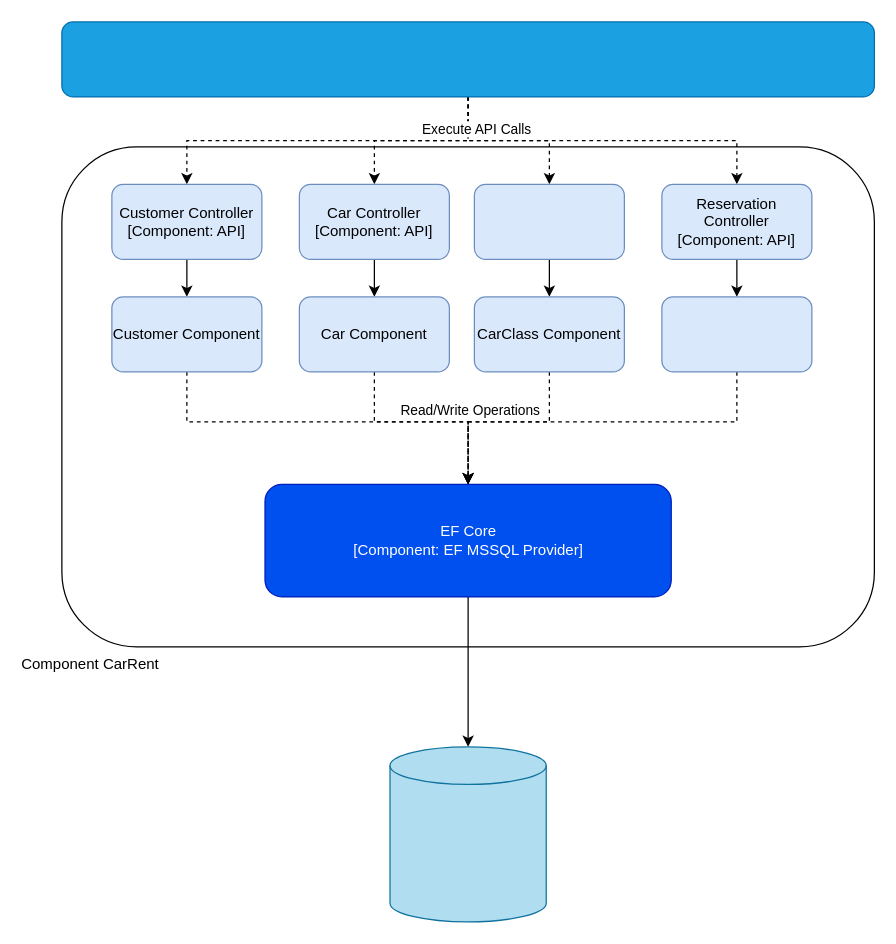
Some shapes in this 896 by 944 pixel diagram are drawn without their labels. The shapes that lost their labels are listed below. From the top down, each one's centre as x and y in pixels, then its label:
the point at 467,59: IIS Windows [Container: Webserver]
the point at 548,221: CarClass Controller [Component: API]
the point at 736,334: Reservation Component
the point at 467,834: Database [Container: SQL]
